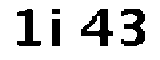1: (13, 8, 46, 56)
3: (120, 5, 150, 50)
4: (81, 6, 115, 51)
i: (52, 5, 67, 51)
